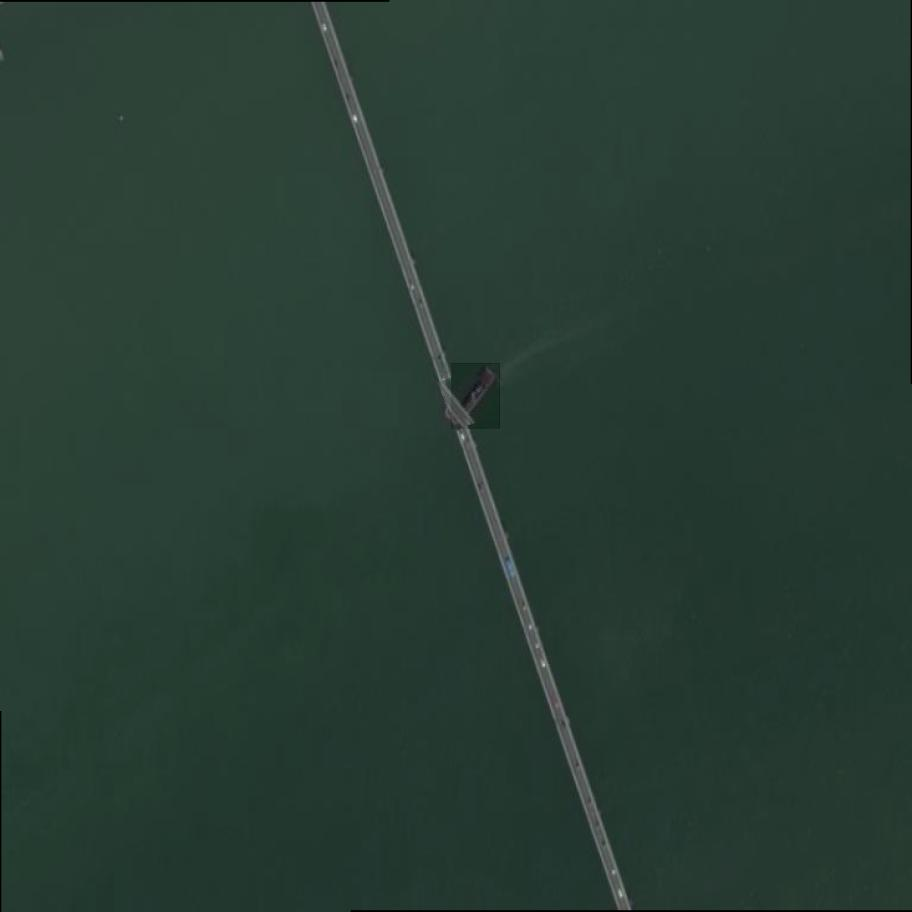ship: (449, 364, 503, 430)
